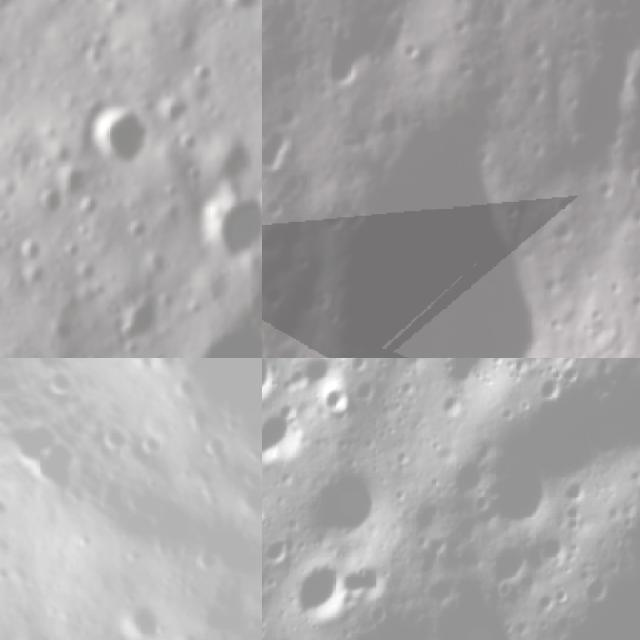crater: (281, 68, 604, 358), (308, 0, 420, 112), (302, 460, 386, 549), (472, 454, 564, 530), (287, 548, 358, 630), (24, 436, 99, 511), (313, 364, 369, 428), (87, 98, 139, 164), (487, 524, 535, 593), (109, 593, 178, 640), (209, 194, 262, 254), (611, 21, 640, 127), (262, 115, 300, 189), (262, 403, 302, 470), (126, 424, 178, 474), (90, 416, 140, 466), (534, 368, 573, 406), (262, 188, 298, 225), (262, 358, 282, 414), (623, 154, 640, 201), (227, 0, 259, 15)
